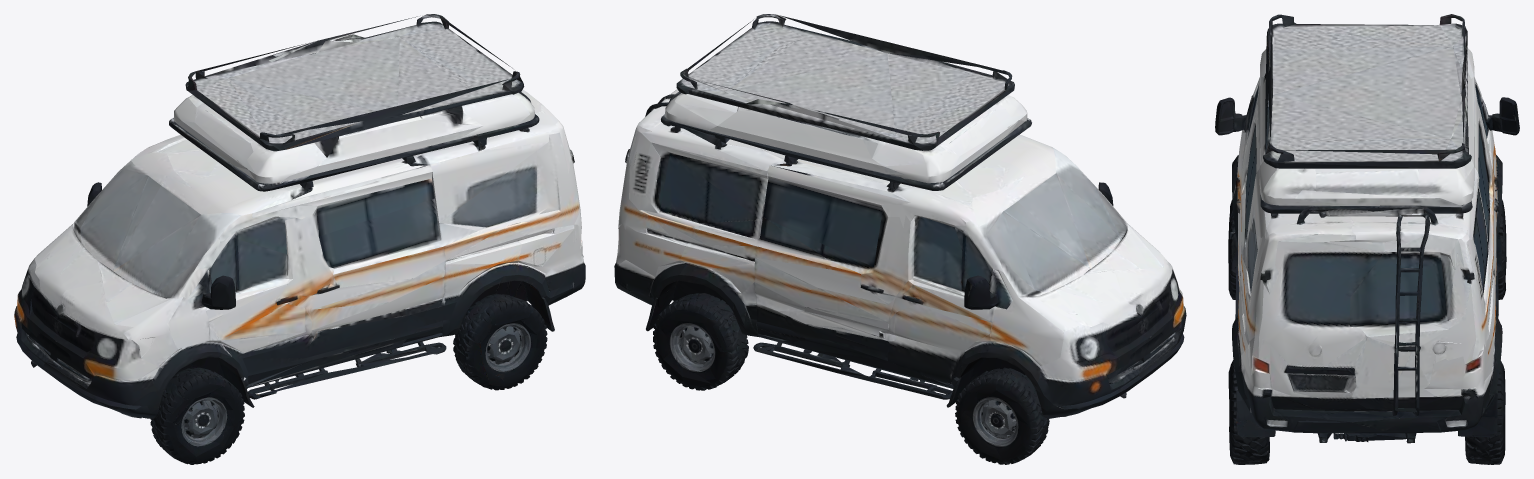
File: van.glb
The picture shows the model from 3 angles, left to right: view 1: azimuth 30°, elevation 25°; view 2: azimuth 150°, elevation 25°; view 3: azimuth 270°, elevation 25°; orthographic projection. The views are drawn at different scales.
Size of the model in its own units: 1.9 by 1.08 by 0.907.
Materials: 1 (1 with a texture image).
